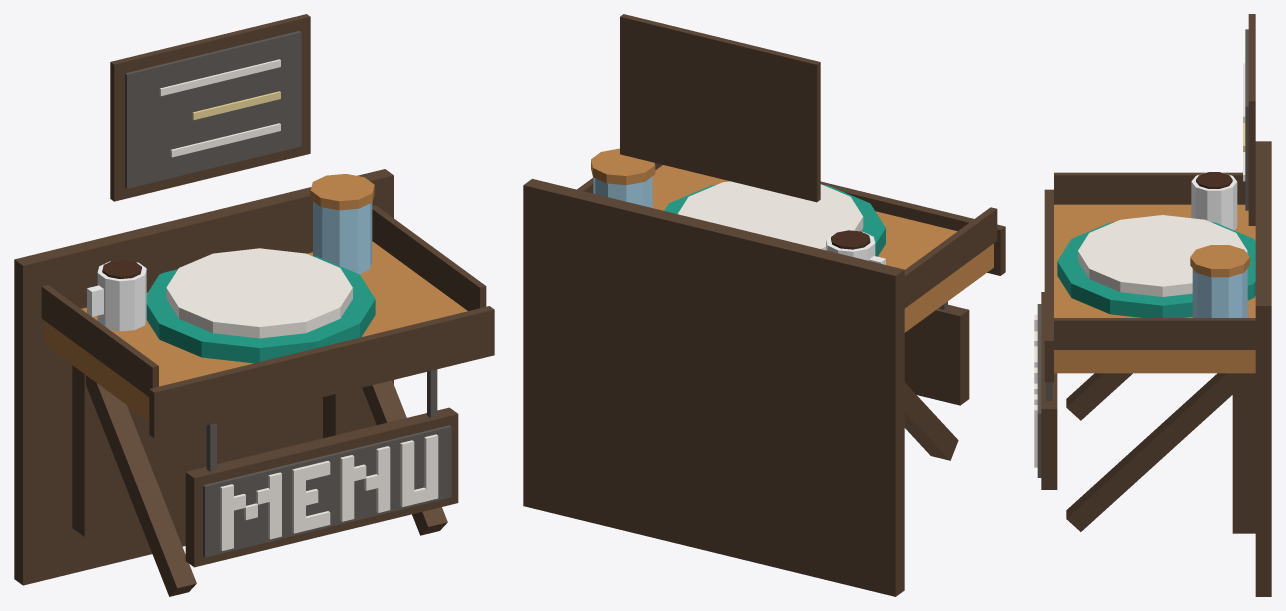
The model's file is CatCafe_Furniture_WallPerch_Barista.glb.
3 views of the same model, side by side, from view 1: azimuth 30°, elevation 25°; view 2: azimuth 150°, elevation 25°; view 3: azimuth 270°, elevation 25° (orthographic). The views are drawn at different scales.
Visible parts, largest first — view 1: CatCafe_Furniture_WallPerch_Barista; view 2: CatCafe_Furniture_WallPerch_Barista; view 3: CatCafe_Furniture_WallPerch_Barista.
Part boxes in pixels (x1=…): CatCafe_Furniture_WallPerch_Barista: x1=14, y1=14, x2=494, y2=596; CatCafe_Furniture_WallPerch_Barista: x1=523, y1=14, x2=1005, y2=596; CatCafe_Furniture_WallPerch_Barista: x1=1034, y1=14, x2=1271, y2=596.
Bounding box in the file's own units: 3.4 × 4.4 × 2.07.
Materials: 1 (1 with a texture image).
